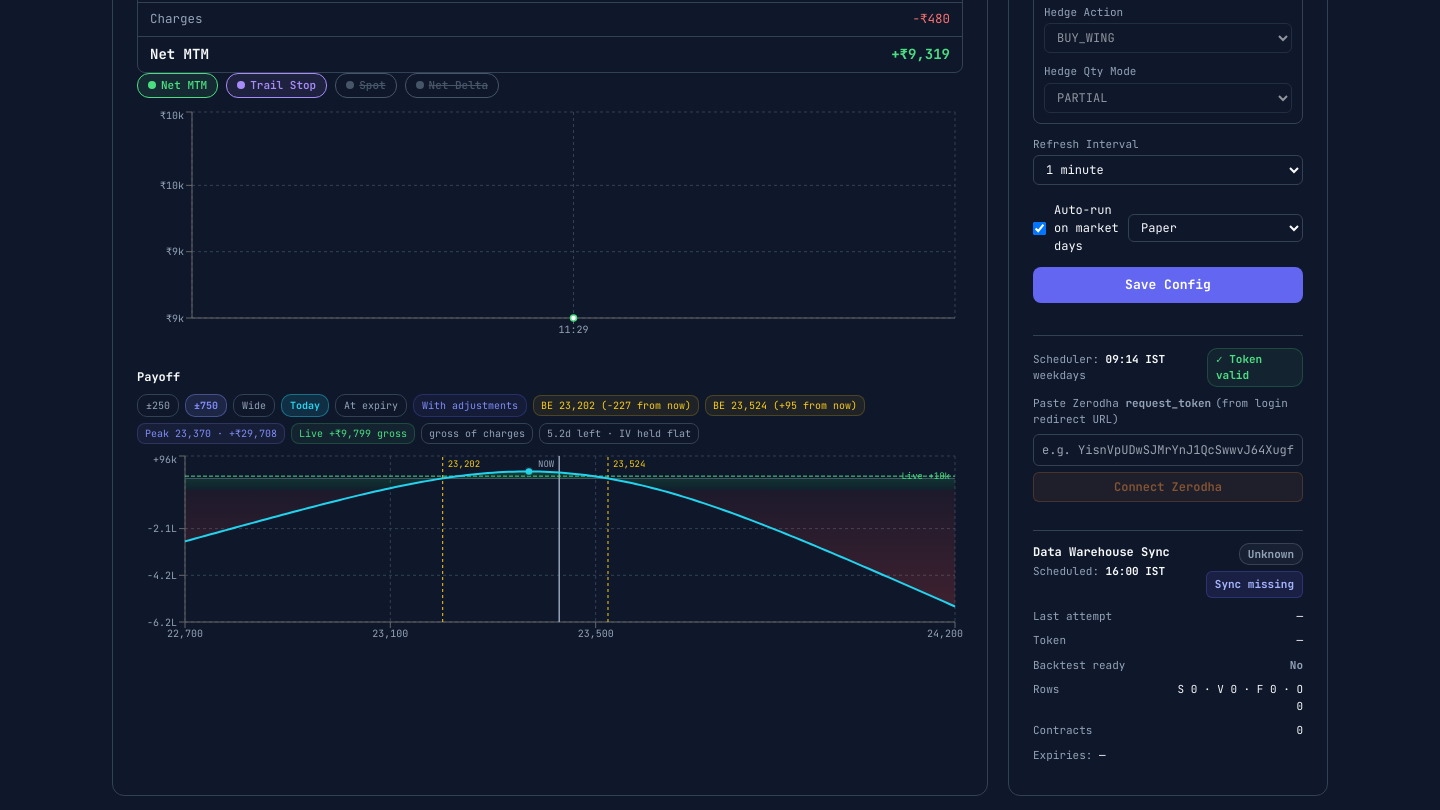
LivePaperMonitor intraday payoff line › prices each leg at its own size, not the full straddle quantity
This screenshot has width=1440, height=810.
(page scrolled)
Expected: the text "BE 23,202 (−227 from now)" is shown, [533,394,699,416]
Expected: the text "BE 23,524 (+95 from now)" is shown, [705,394,865,416]
Step 1. Click the button "At expiry" → (371, 405), box [335,394,407,416]
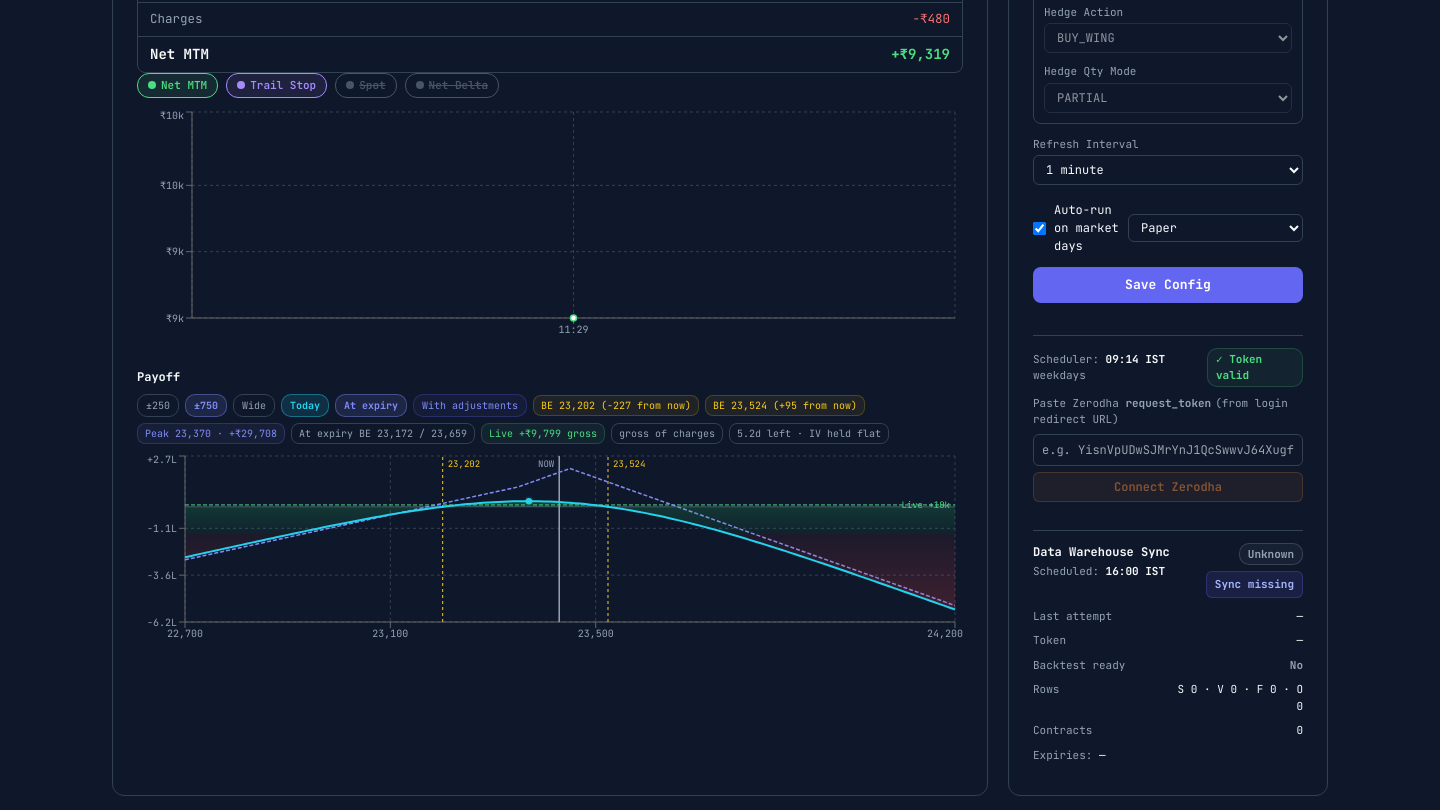
Now the text "At expiry BE 23,172 / 23,659" is shown, box [291,422,475,444]
